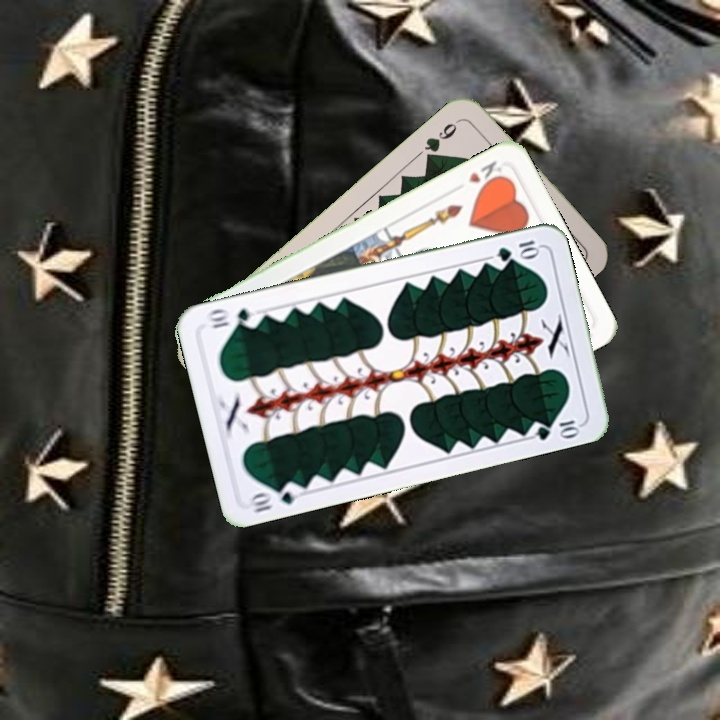G10: (245, 478, 304, 515), (493, 236, 542, 264)
G9: (420, 114, 464, 164)
HK: (464, 156, 509, 192)
